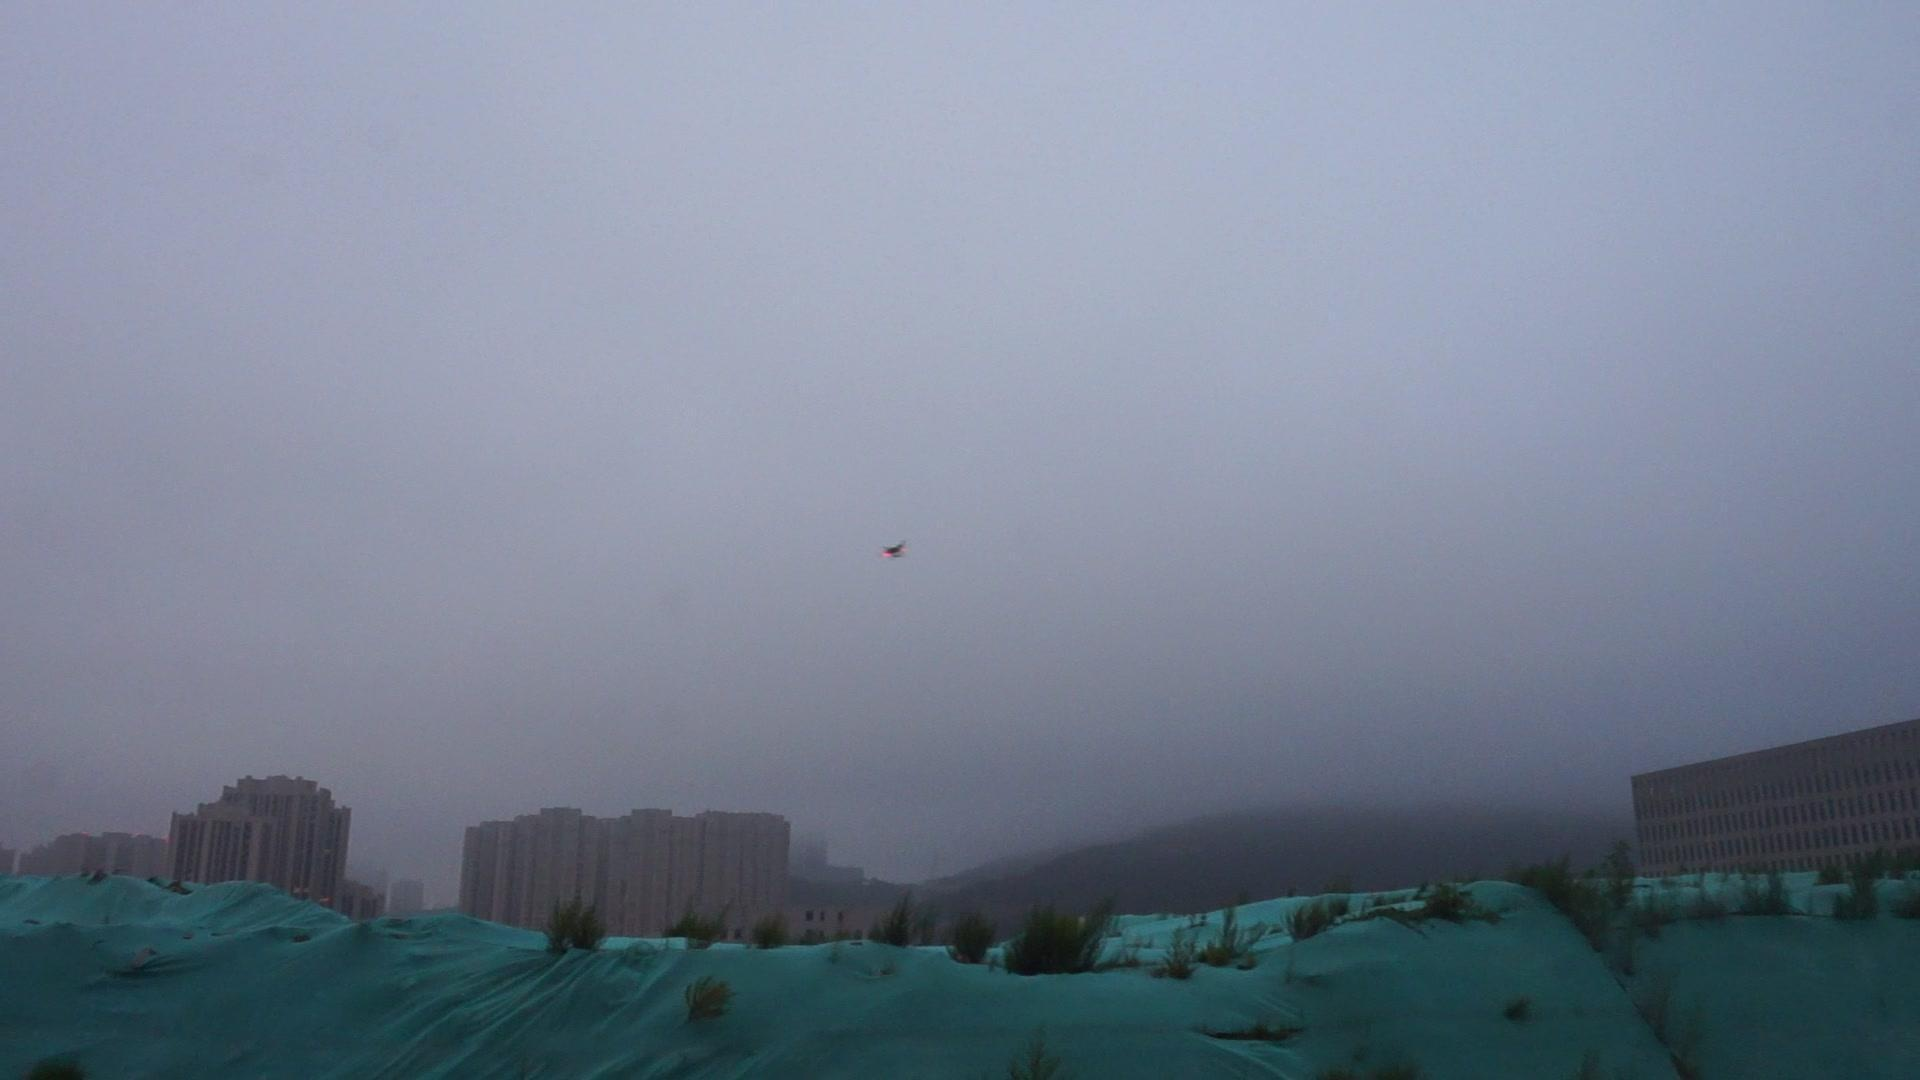UAV: (880, 541, 909, 560)
